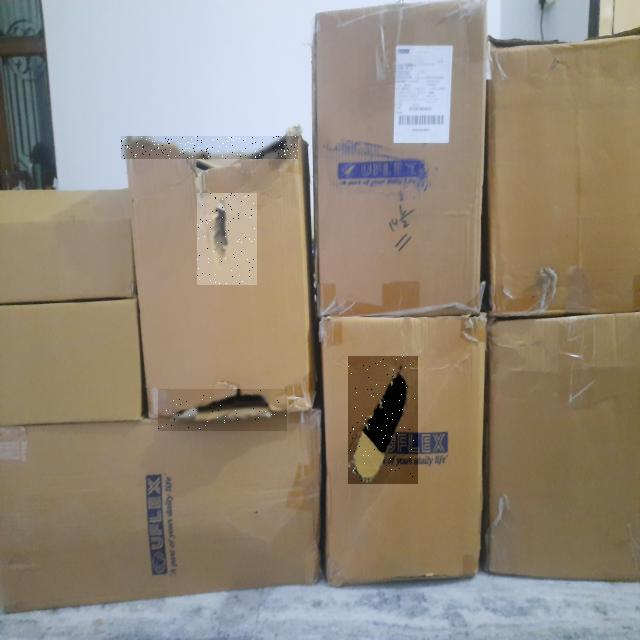leakage: (349, 356, 416, 484), (198, 193, 255, 284), (159, 390, 287, 430)
tear: (121, 136, 298, 159)
